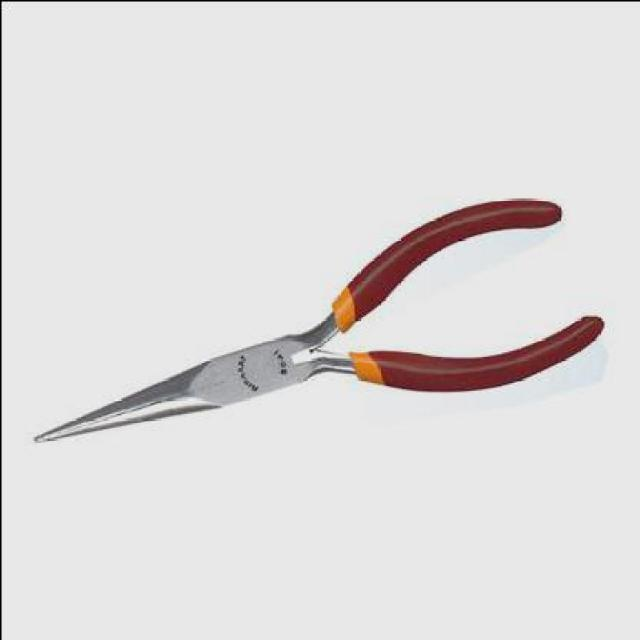pliers: (31, 193, 604, 444)
